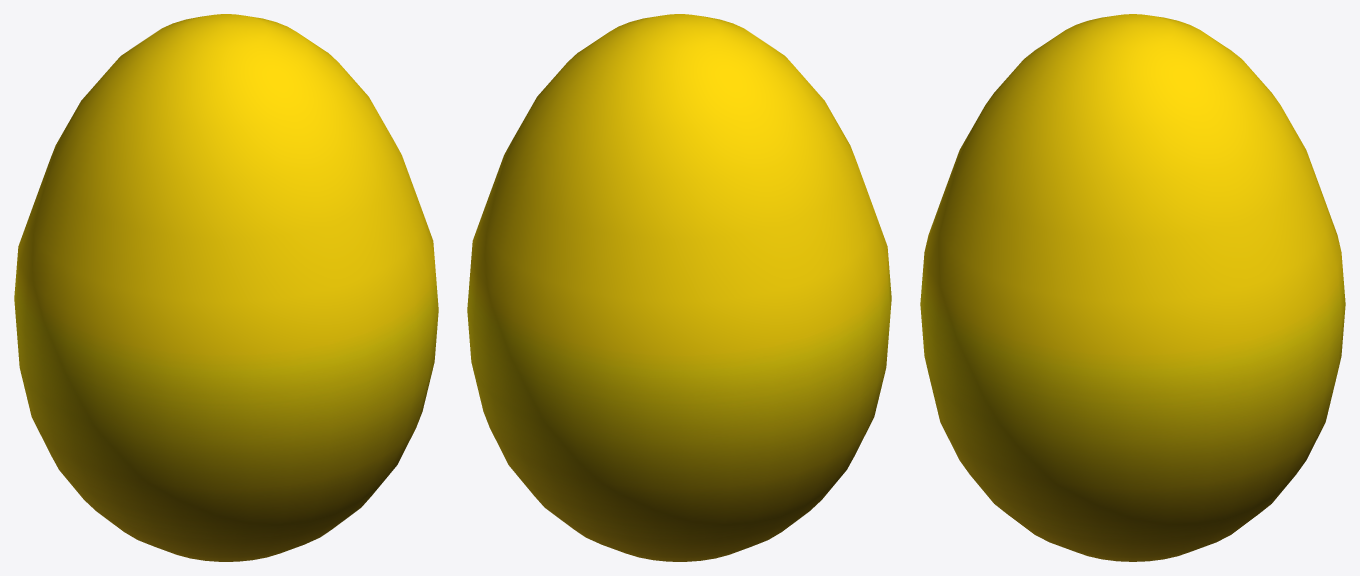
The model's file is egg12.glb.
The picture shows the model from 3 angles, left to right: view 1: azimuth 30°, elevation 25°; view 2: azimuth 150°, elevation 25°; view 3: azimuth 270°, elevation 25°; orthographic projection.
Parts seen in each view (by area): view 1: Sphere001; view 2: Sphere001; view 3: Sphere001.
Part boxes in pixels (<box>): Sphere001: <box>14,14,438,561</box>; Sphere001: <box>467,14,891,561</box>; Sphere001: <box>920,14,1345,561</box>.
Bounding box in the file's own units: 0.7237 × 0.9744 × 0.7237.
1 material, 1 textured.
